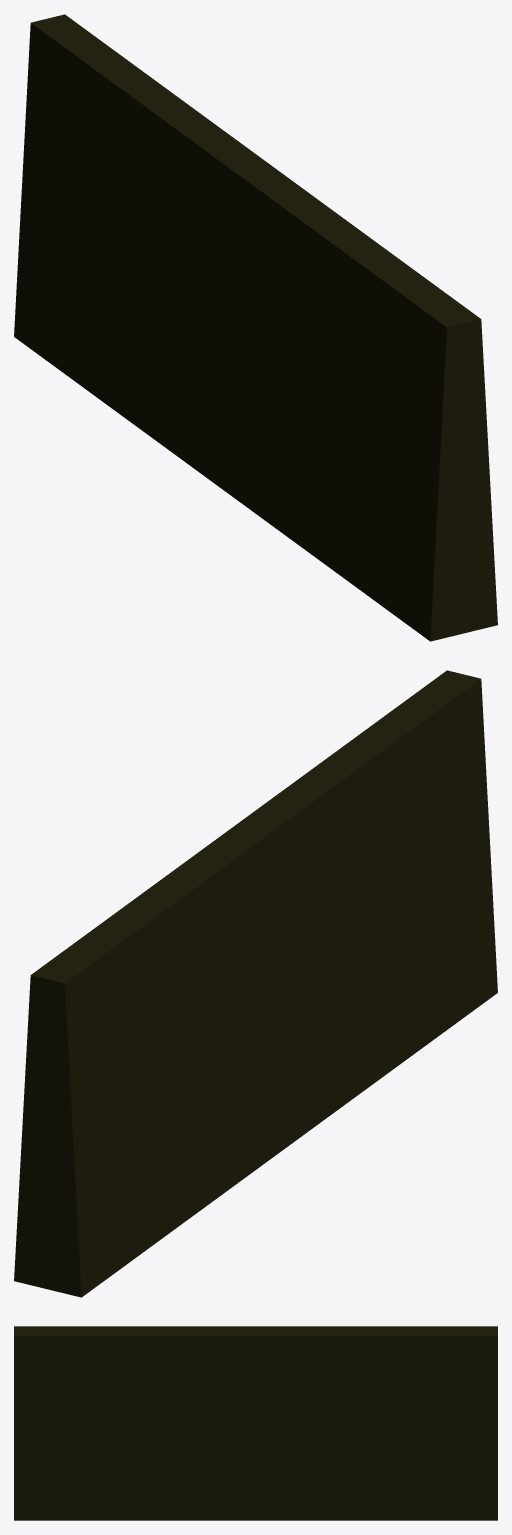
Rendered from wall.gltf.
The picture shows the model from 3 angles, top to bottom: view 1: azimuth 30°, elevation 25°; view 2: azimuth 150°, elevation 25°; view 3: azimuth 270°, elevation 25°; orthographic projection. The views are drawn at different scales.
Visible parts, largest first — view 1: Cube; view 2: Cube; view 3: Cube.
Boxes of the visible parts, x1,y1,x2,y2 form: Cube: (14, 14, 497, 641); Cube: (14, 670, 497, 1297); Cube: (14, 1326, 497, 1520).
Size of the model in its own units: 1.86 by 8.16 by 19.86.
